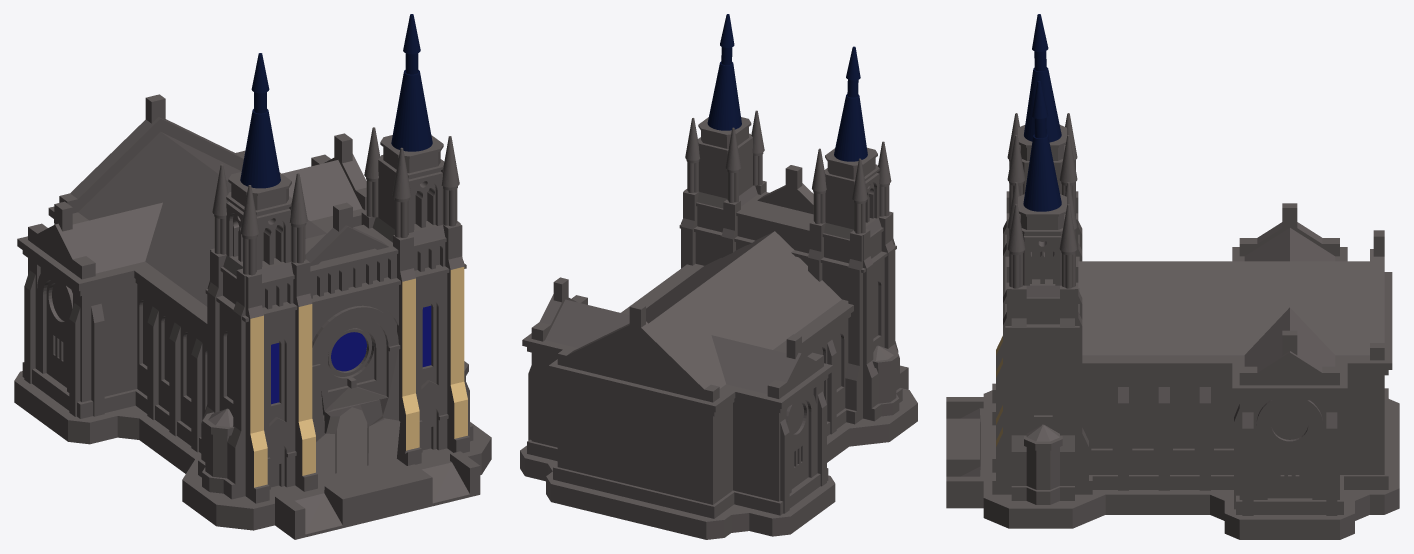
Rendered from Cathedral 1.glb.
3 renders of one model, left to right at view 1: azimuth 30°, elevation 25°; view 2: azimuth 150°, elevation 25°; view 3: azimuth 270°, elevation 25°, orthographic. The views are drawn at different scales.
Visible parts, largest first — view 1: 1, 4, uploads_files_101088_Sioux_Falls_Cathedral_SIMPLE.STL(1).001, uploads_files_101088_Sioux_Falls_Cathedral_SIMPLE.STL(1).002, 3, 2; view 2: 1, uploads_files_101088_Sioux_Falls_Cathedral_SIMPLE.STL(1).001, uploads_files_101088_Sioux_Falls_Cathedral_SIMPLE.STL(1).002; view 3: 1, uploads_files_101088_Sioux_Falls_Cathedral_SIMPLE.STL(1).001, uploads_files_101088_Sioux_Falls_Cathedral_SIMPLE.STL(1).002.
Part boxes in pixels (x1=…): 1: x1=14, y1=94, x2=491, y2=539; 4: x1=250, y1=267, x2=467, y2=487; uploads_files_101088_Sioux_Falls_Cathedral_SIMPLE.STL(1).001: x1=391, y1=14, x2=432, y2=151; uploads_files_101088_Sioux_Falls_Cathedral_SIMPLE.STL(1).002: x1=240, y1=53, x2=280, y2=188; 3: x1=271, y1=305, x2=431, y2=404; 2: x1=331, y1=332, x2=366, y2=371; 1: x1=520, y1=110, x2=917, y2=539; uploads_files_101088_Sioux_Falls_Cathedral_SIMPLE.STL(1).001: x1=707, y1=14, x2=741, y2=130; uploads_files_101088_Sioux_Falls_Cathedral_SIMPLE.STL(1).002: x1=834, y1=46, x2=867, y2=161; 1: x1=946, y1=113, x2=1399, y2=539; uploads_files_101088_Sioux_Falls_Cathedral_SIMPLE.STL(1).001: x1=1023, y1=81, x2=1061, y2=211; uploads_files_101088_Sioux_Falls_Cathedral_SIMPLE.STL(1).002: x1=1024, y1=14, x2=1061, y2=142.
Bounding box in the file's own units: 47 × 62 × 60.93.
